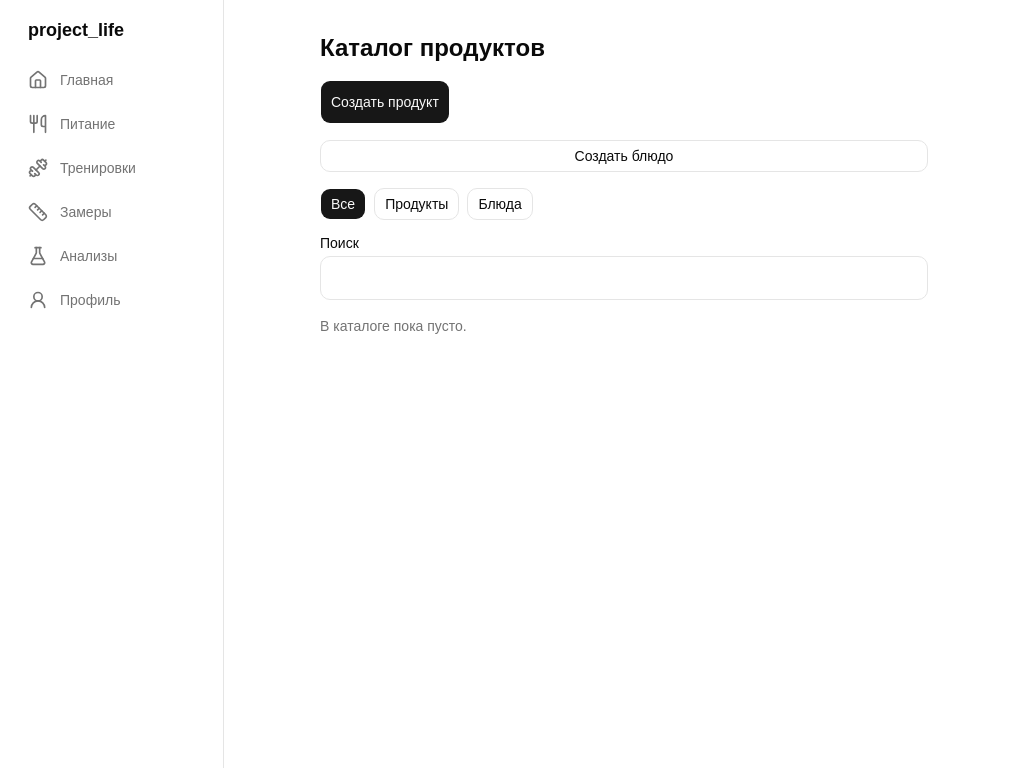
it: не отправляет пустой рецепт
Click the button "Создать блюдо" at (624, 156), box top-left (320, 140), bottom-right (928, 172)
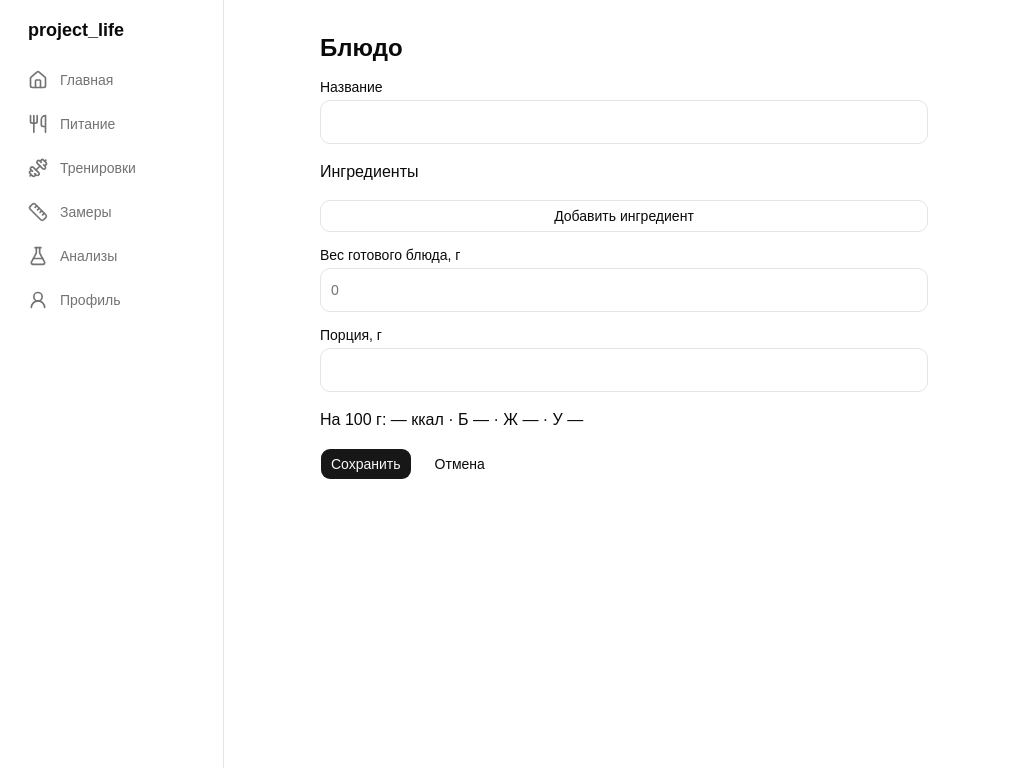
Click the button "Сохранить" at (366, 464), box top-left (320, 448), bottom-right (412, 480)
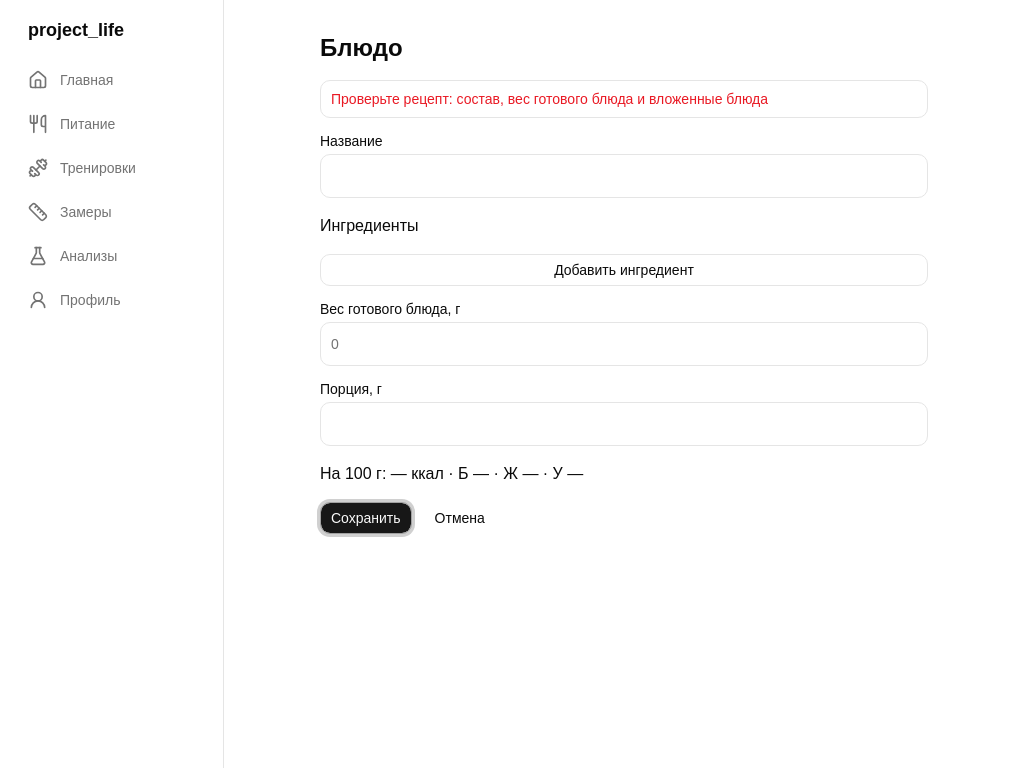
Expected: the message shows "Проверьте рецепт", top-left (331, 91), bottom-right (768, 107)
